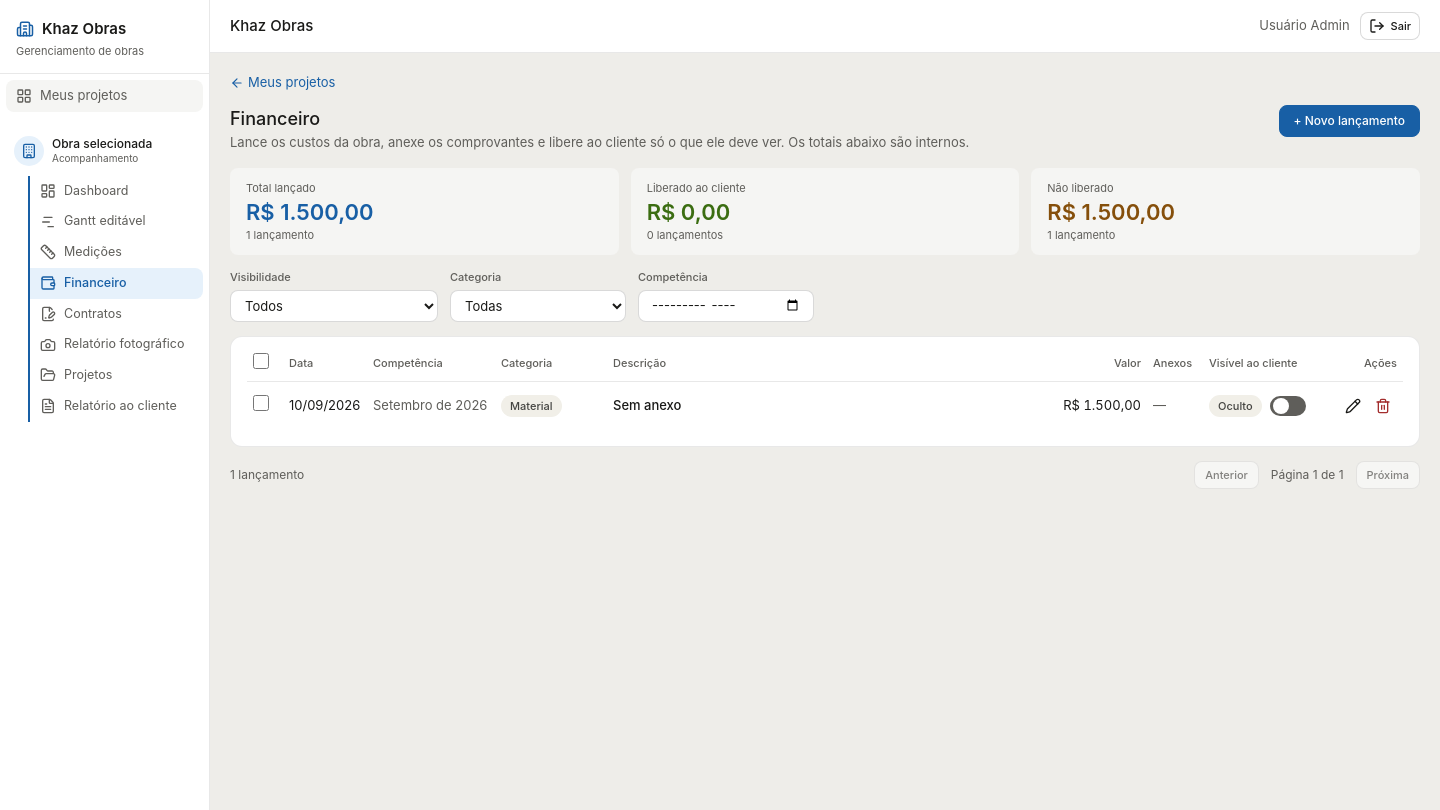
Test: Financeiro (admin) - comprovantes: lista › sem comprovantes mostra o vazio e "0 de 10"
Click the button named "Editar lançamento: Sem anexo".
click(1353, 406)  # box [1339,392,1367,420]
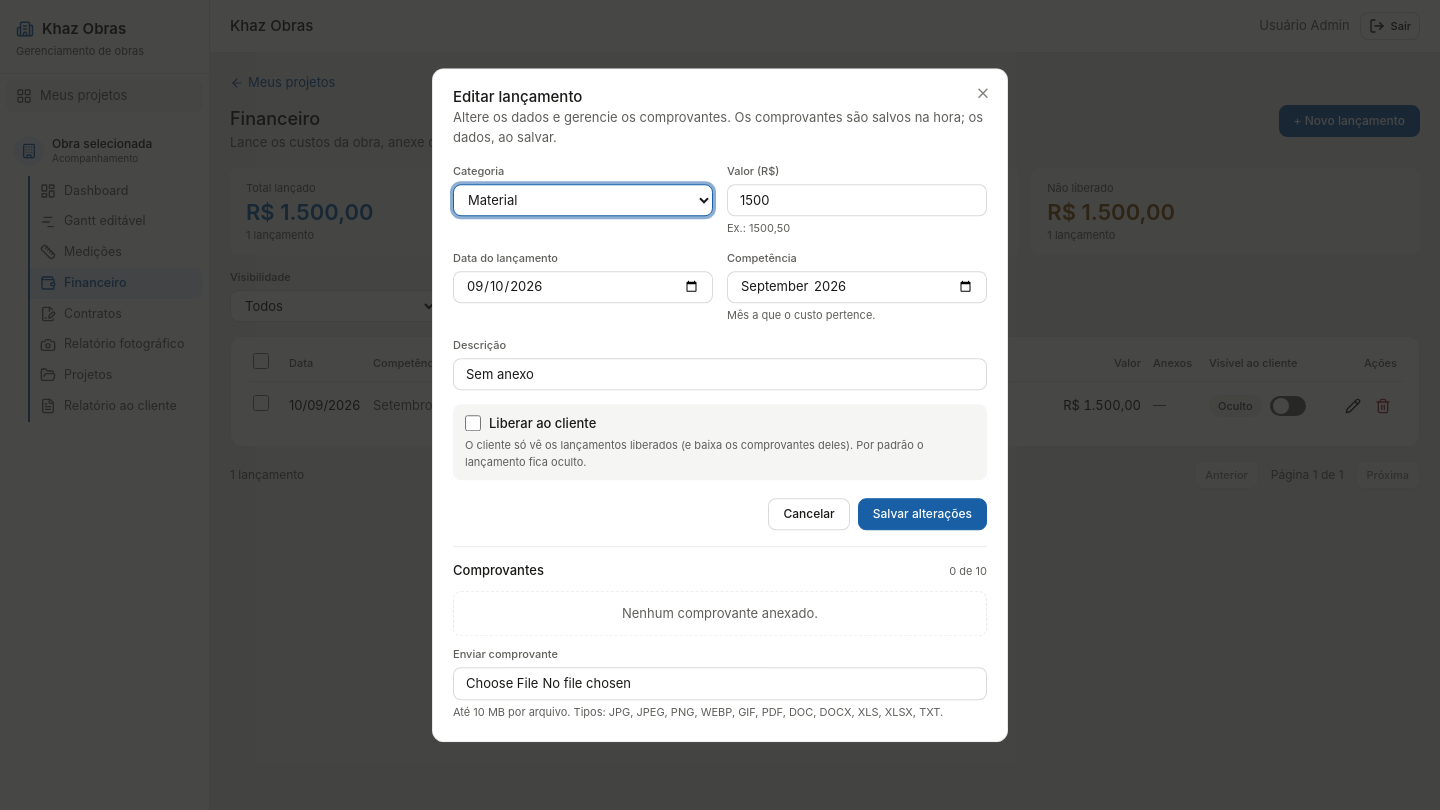
Now the text "Nenhum comprovante anexado." is shown, box [453,591,987,636]
Now the text "0 de 10" is shown, box [949,563,987,580]
